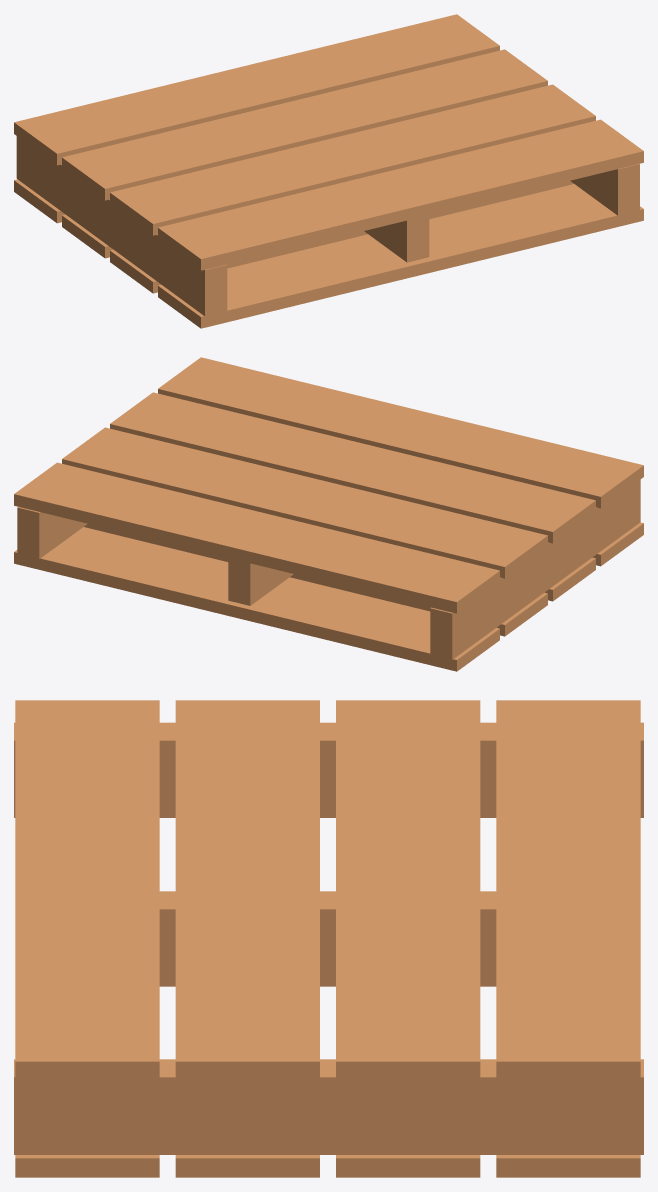
The model's file is CagetteSimple.fbx.
The picture shows the model from 3 angles, top to bottom: view 1: azimuth 30°, elevation 25°; view 2: azimuth 150°, elevation 25°; view 3: azimuth 270°, elevation 25°; orthographic projection. The views are drawn at different scales.
Visible parts, largest first — view 1: Cube.007; view 2: Cube.007; view 3: Cube.007.
Part boxes in pixels (x1=…): Cube.007: x1=14, y1=14, x2=643, y2=328; Cube.007: x1=14, y1=357, x2=643, y2=671; Cube.007: x1=14, y1=700, x2=643, y2=1177.
Bounding box in the file's own units: 400 × 60 × 295.
